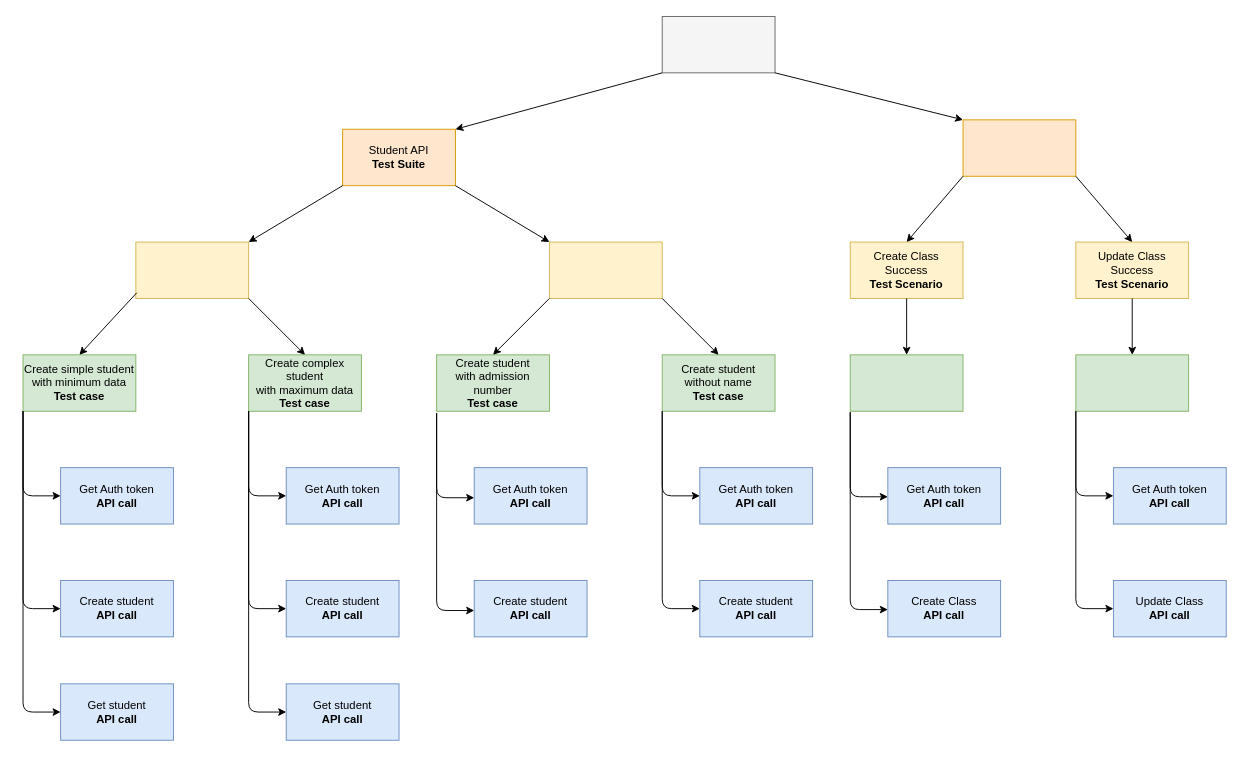
This 1243x757 diagram has some shape labels left out. Here are the shapes that lost their labels. From the top down, the box of each, then its label:
(661, 16, 775, 73): Lazy Suite
(962, 119, 1076, 176): Class API Test Suite
(135, 241, 249, 298): Create Student Success Test Scenario
(548, 241, 662, 298): Create Student Error Test Scenario
(849, 354, 963, 411): Create class Test case
(1075, 354, 1189, 411): Update class Test case
